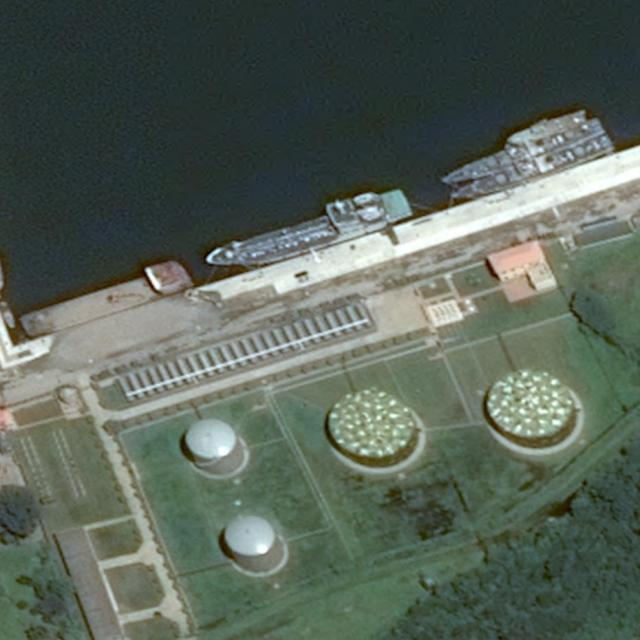Landing: (200, 182, 413, 273)
Other Warship: (447, 133, 613, 209), (439, 117, 606, 190), (504, 109, 588, 149)
